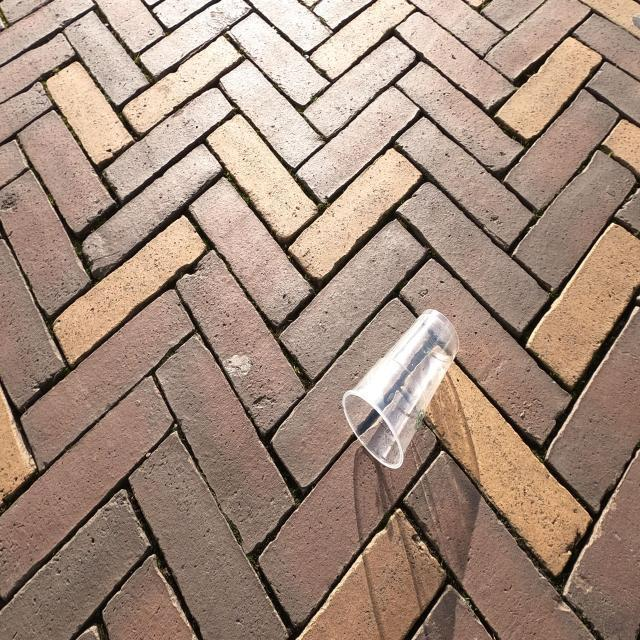Cup: (348, 307, 462, 470)
